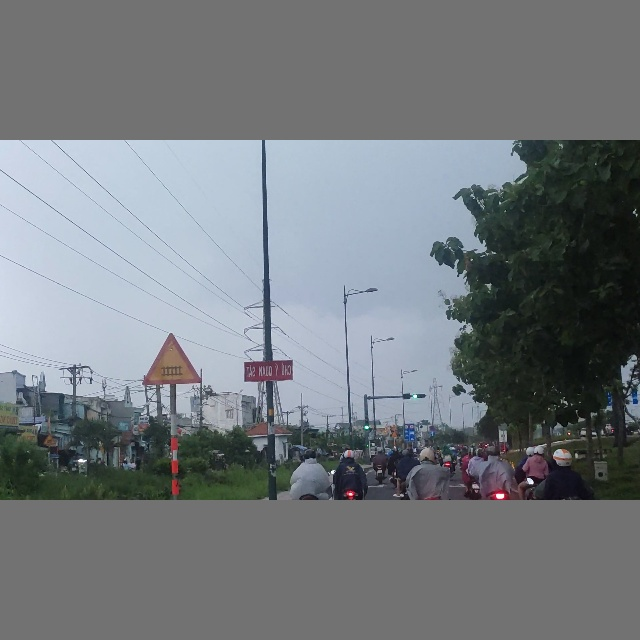I.407a: (429, 431, 435, 436)
W.210: (141, 332, 202, 386)
